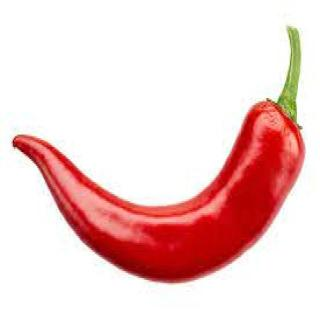Cabai Merah: (12, 100, 307, 284)
